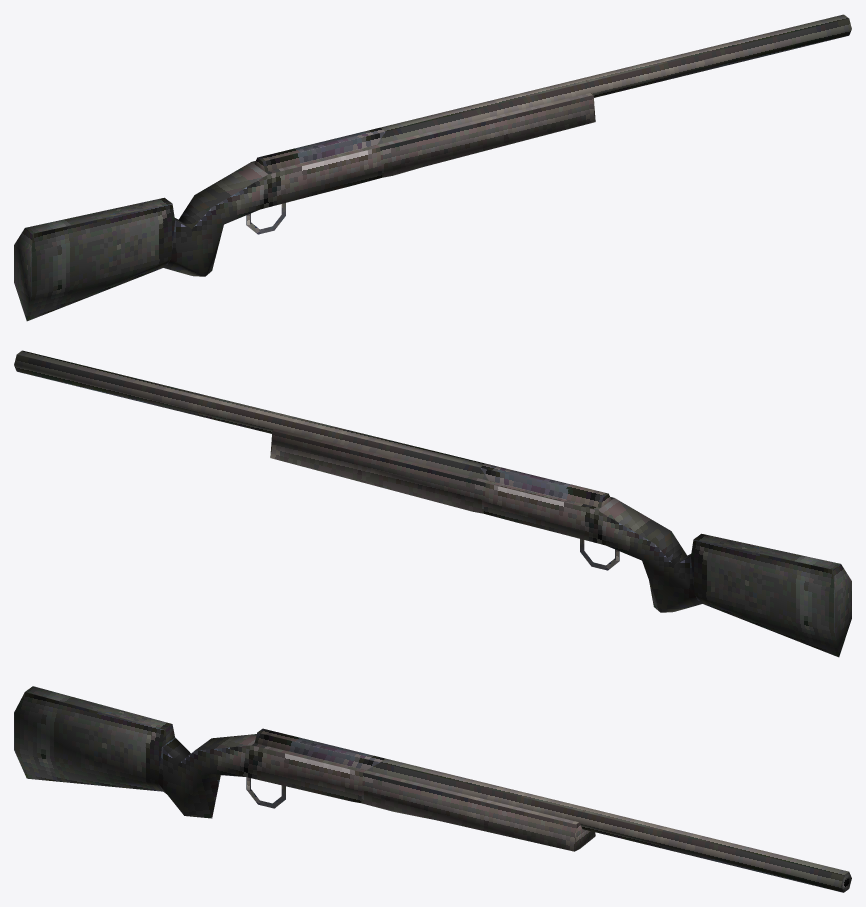
Rendered from mcmillanM87__N001_mac_low_v0200.glb.
3 views of the same model, one above another, from view 1: azimuth 30°, elevation 25°; view 2: azimuth 150°, elevation 25°; view 3: azimuth 330°, elevation 25° (orthographic).
Visible parts, largest first — view 1: N001_mac_low_v0200; view 2: N001_mac_low_v0200; view 3: N001_mac_low_v0200.
Part boxes in pixels (x1,y1,x2,y2): N001_mac_low_v0200: [14, 14, 851, 321]; N001_mac_low_v0200: [14, 350, 851, 657]; N001_mac_low_v0200: [14, 686, 851, 892].
Bounding box in the file's own units: 1.25 × 0.1525 × 0.0553.
2 materials, 2 textured.
